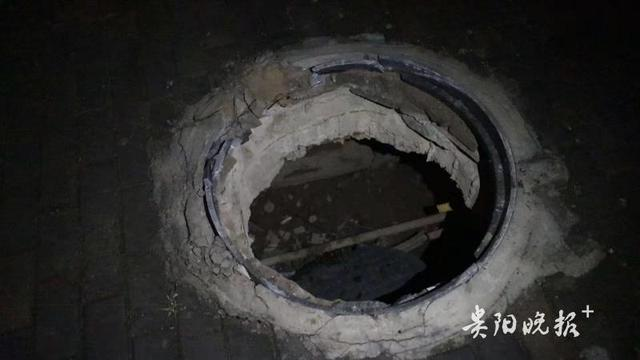wellcover: (187, 50, 524, 314)
